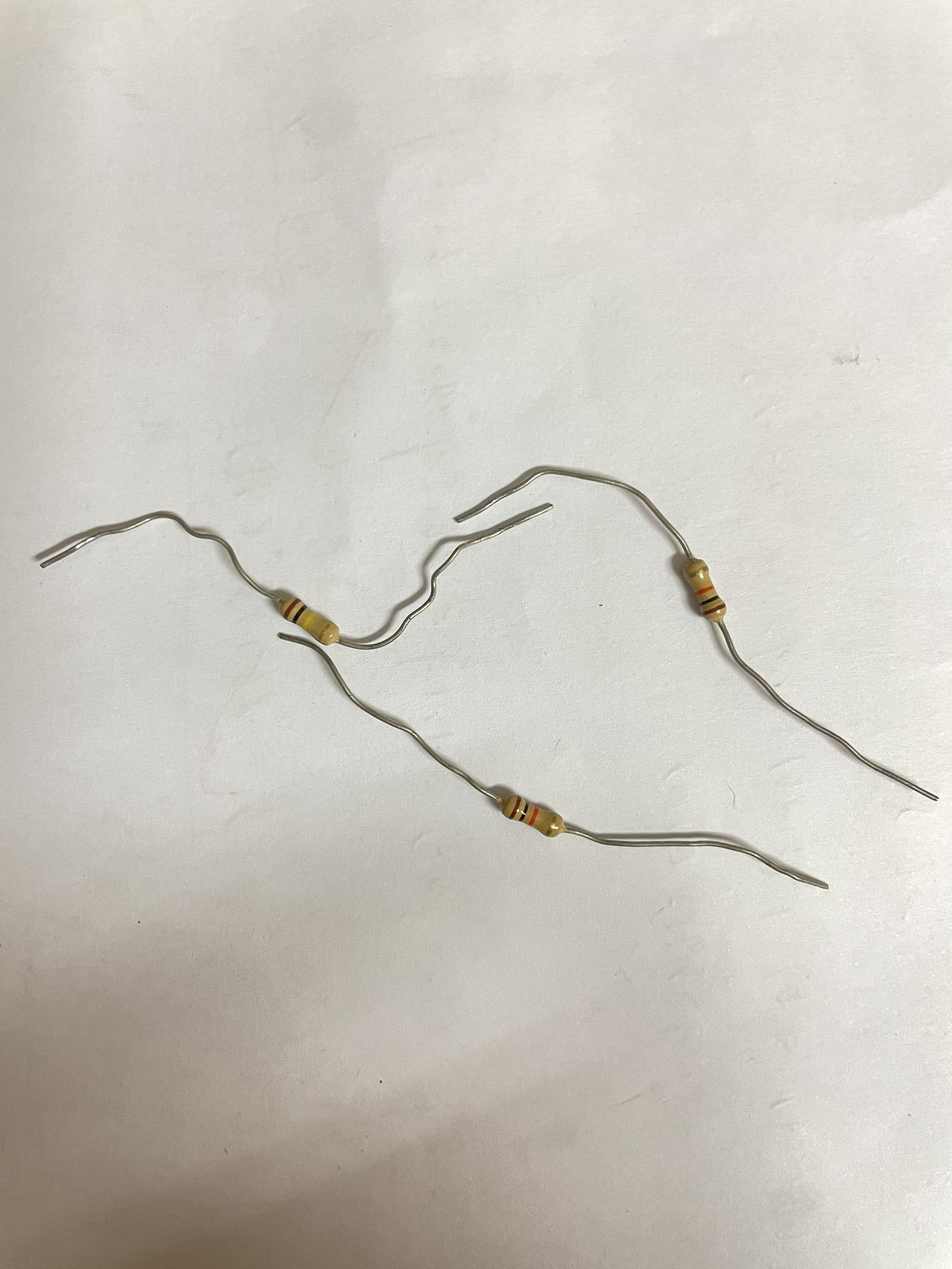resistor: (258, 582, 343, 650), (671, 540, 732, 619), (488, 784, 572, 834)
